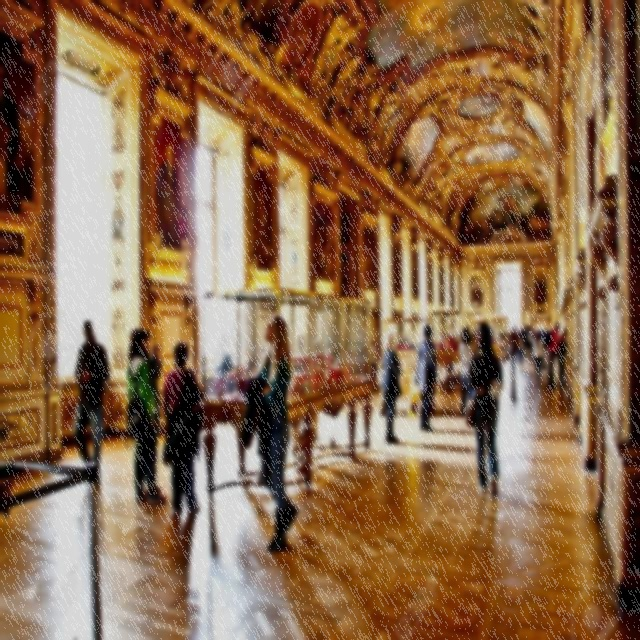pessoa: (256, 313, 300, 553), (160, 338, 204, 518), (124, 328, 168, 504), (463, 320, 504, 499), (72, 319, 112, 483), (127, 326, 165, 494), (0, 65, 29, 216), (153, 138, 187, 248), (379, 329, 404, 445), (415, 323, 438, 435), (488, 193, 528, 244), (458, 324, 478, 418), (316, 206, 338, 288), (254, 185, 274, 268), (361, 230, 379, 304), (542, 320, 560, 390), (528, 328, 546, 382), (555, 326, 569, 386), (506, 325, 520, 367), (220, 352, 234, 377), (517, 328, 525, 367), (500, 329, 510, 360), (392, 256, 400, 294), (472, 278, 482, 308), (536, 277, 546, 305), (445, 317, 458, 337), (525, 324, 532, 361), (522, 324, 528, 364), (411, 266, 418, 300), (426, 266, 433, 300), (440, 268, 445, 302), (540, 323, 548, 341), (470, 326, 480, 340), (514, 326, 520, 348), (327, 342, 334, 358), (316, 338, 322, 356), (449, 362, 454, 376), (530, 327, 536, 338)
